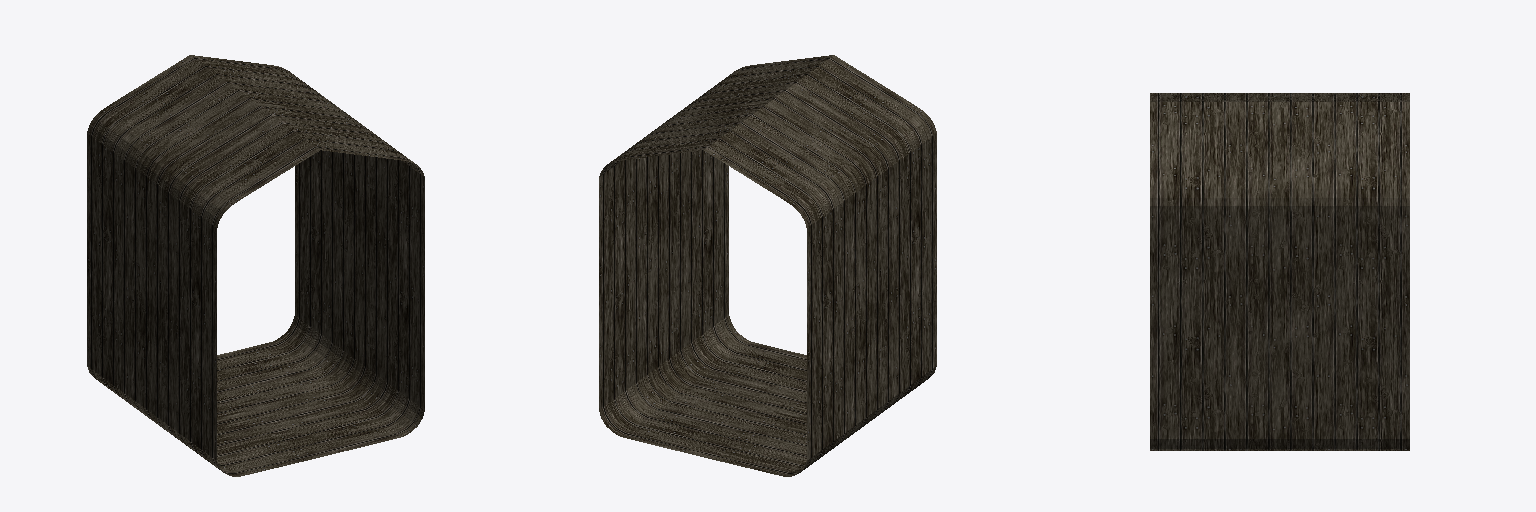
3 renders of one model, left to right at view 1: azimuth 30°, elevation 25°; view 2: azimuth 150°, elevation 25°; view 3: azimuth 270°, elevation 25°, orthographic.
Parts seen in each view (by area): view 1: Tunnel_Drape_Plane.001; view 2: Tunnel_Drape_Plane.001; view 3: Tunnel_Drape_Plane.001.
Part boxes in pixels (x1,y1,x2,y2): Tunnel_Drape_Plane.001: (87,55,424,476); Tunnel_Drape_Plane.001: (599,55,936,476); Tunnel_Drape_Plane.001: (1150,93,1409,450).
Bounding box in the file's own units: 5.53 × 7.8 × 6.
1 materials, 1 textured.